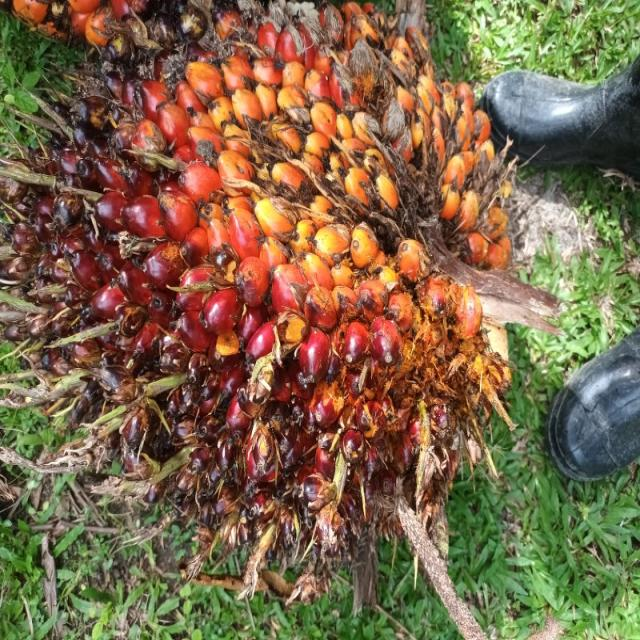fraksi 1: (35, 38, 480, 640)
